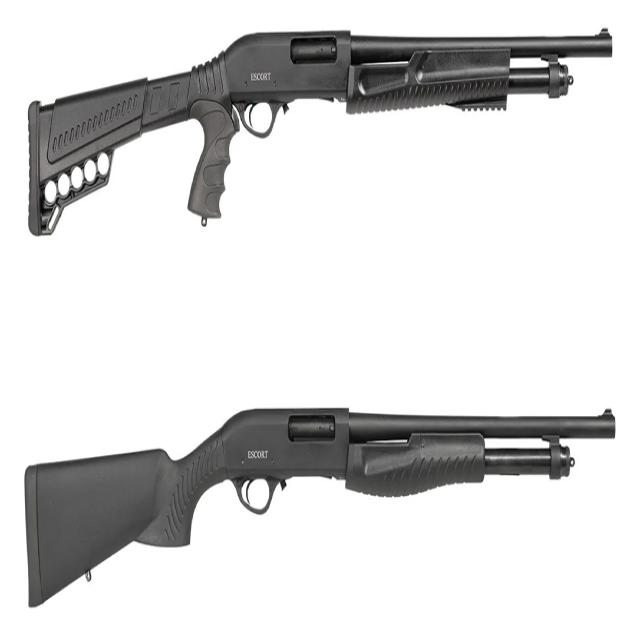ShotGun: (27, 30, 616, 239), (24, 408, 617, 611)
